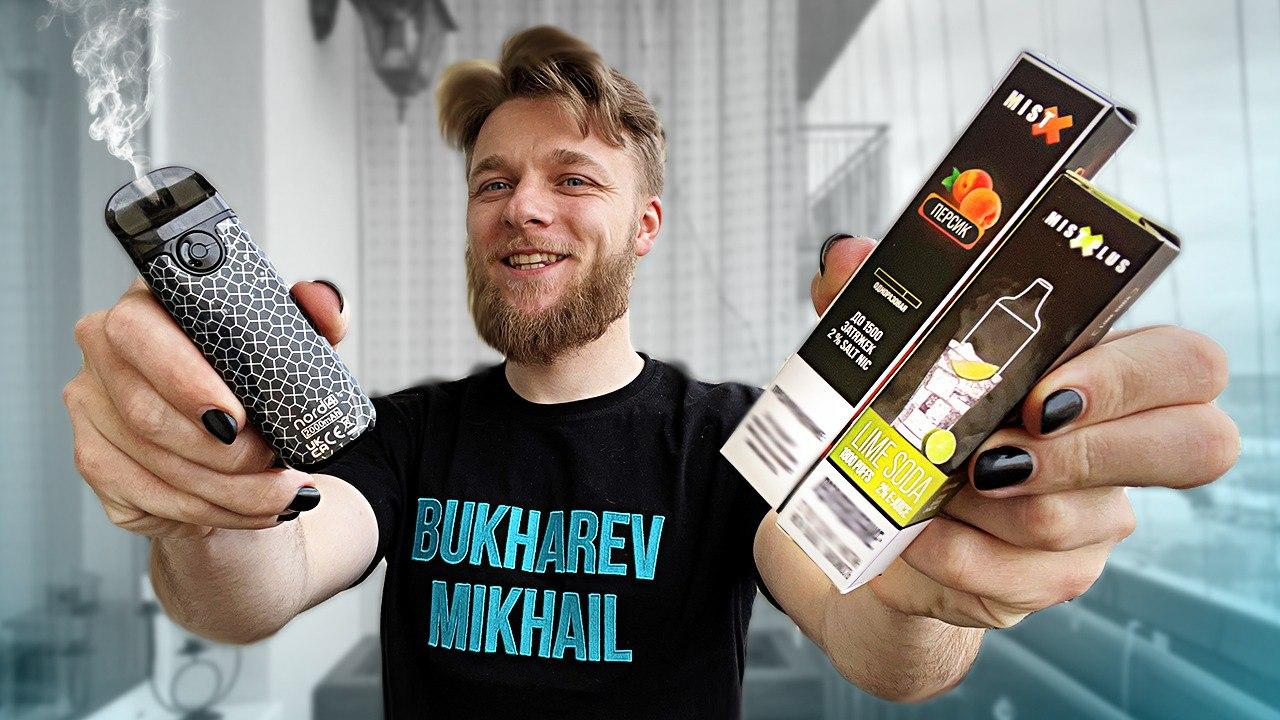Vape: (106, 166, 375, 467)
